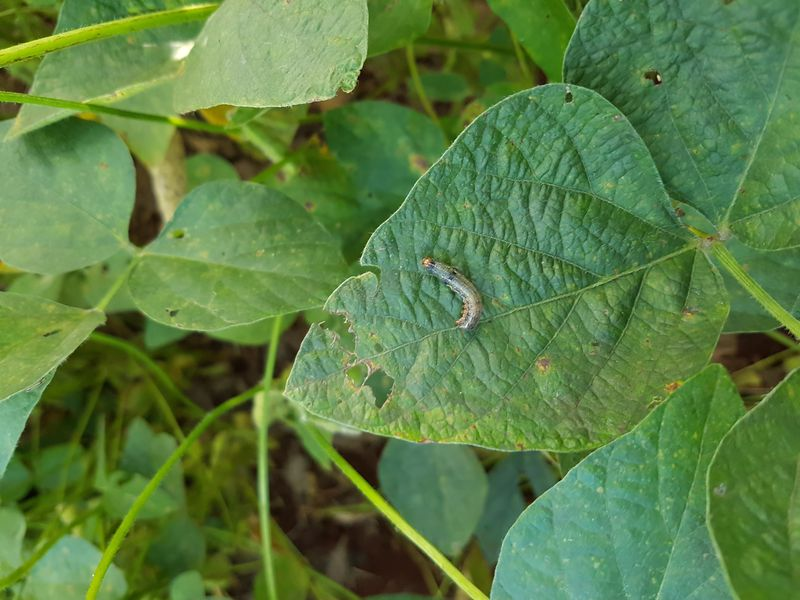Spodoptera_albula: (405, 249, 501, 340)
